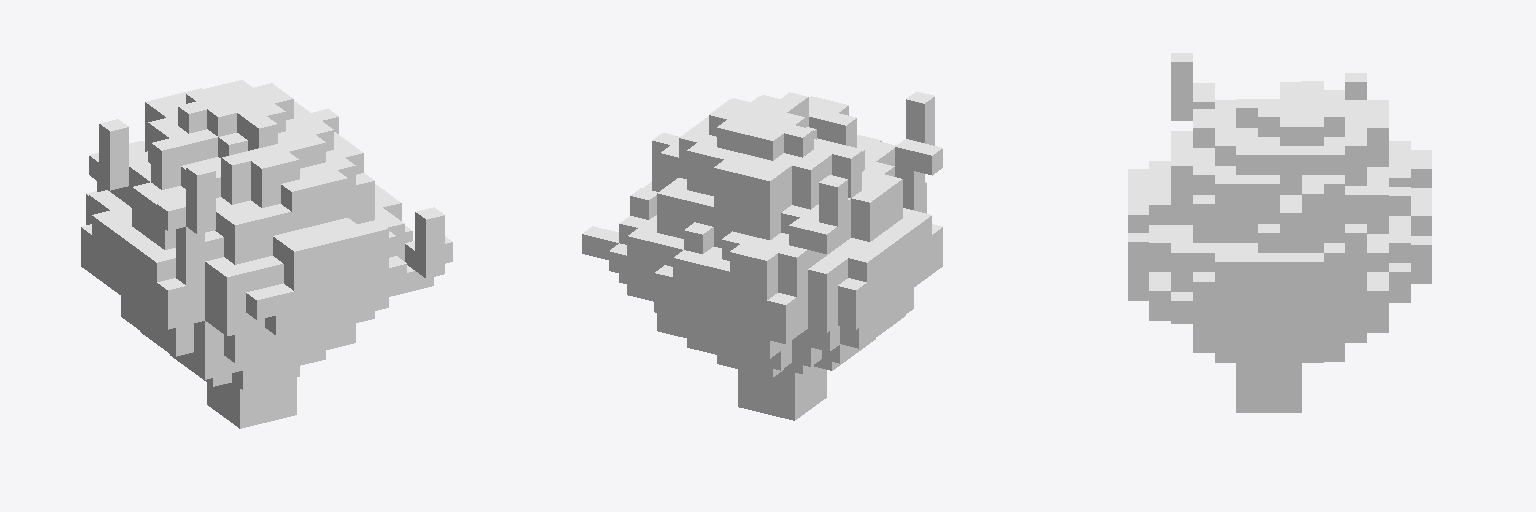
File: Bush1.obj
The picture shows the model from 3 angles: view 1: azimuth 30°, elevation 25°; view 2: azimuth 150°, elevation 25°; view 3: azimuth 270°, elevation 25°; orthographic projection.
Visible parts, largest first — view 1: object 1; view 2: object 1; view 3: object 1.
Boxes of the visible parts, x1=… form: object 1: x1=81, y1=80, x2=452, y2=428; object 1: x1=582, y1=91, x2=942, y2=420; object 1: x1=1128, y1=53, x2=1431, y2=412.
Size of the model in its own units: 1.4 by 1.5 by 1.4.